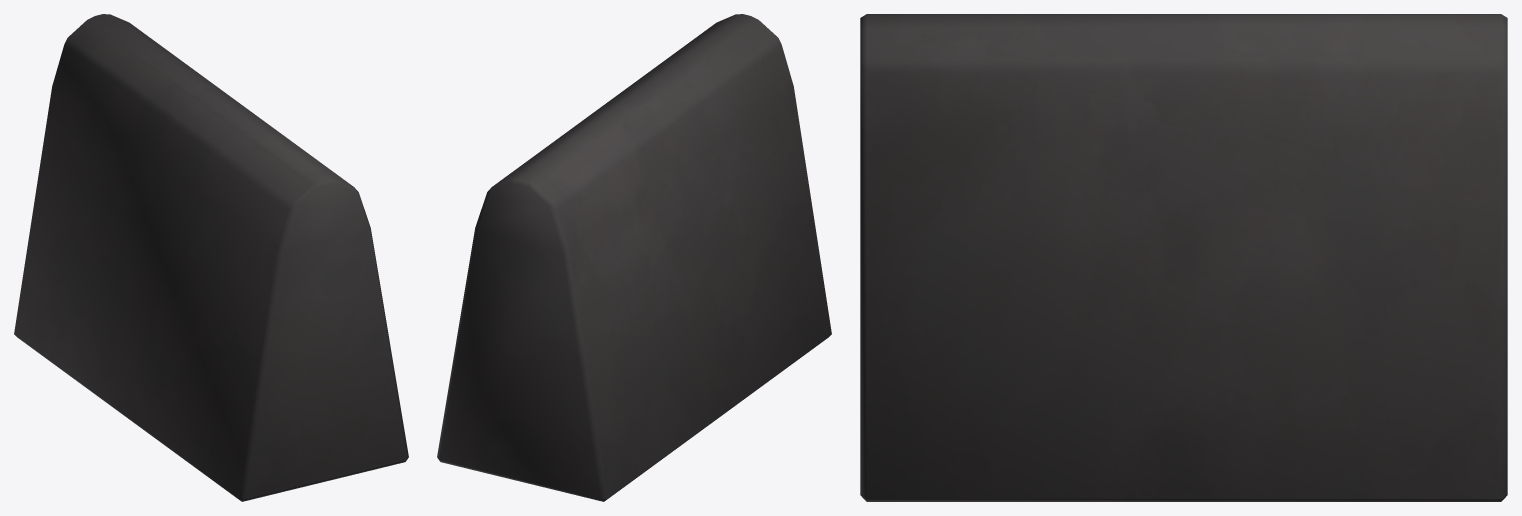
The model's file is concreteBlock1fbx.fbx.
3 renders of one model, left to right at view 1: azimuth 30°, elevation 25°; view 2: azimuth 150°, elevation 25°; view 3: azimuth 270°, elevation 25°, orthographic. The views are drawn at different scales.
Visible parts, largest first — view 1: concrete_block; view 2: concrete_block; view 3: concrete_block.
Part boxes in pixels (bbox=[...]): concrete_block: bbox=[14, 14, 408, 501]; concrete_block: bbox=[437, 14, 831, 501]; concrete_block: bbox=[860, 14, 1507, 501].
Size of the model in its own units: 42.86 by 72.8 by 100.
1 material, 1 textured.
